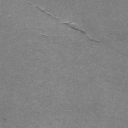finishing roll printing: (32, 3, 100, 42)
